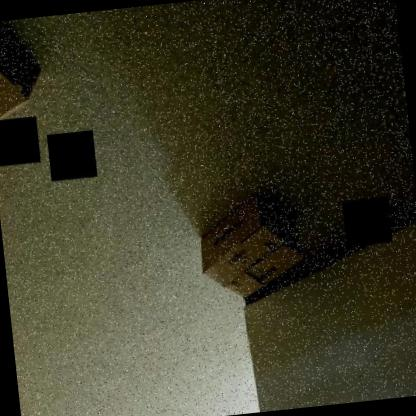box: (186, 182, 316, 320)
